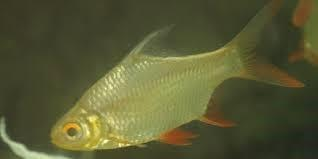Silver Barb: (48, 0, 306, 151)
